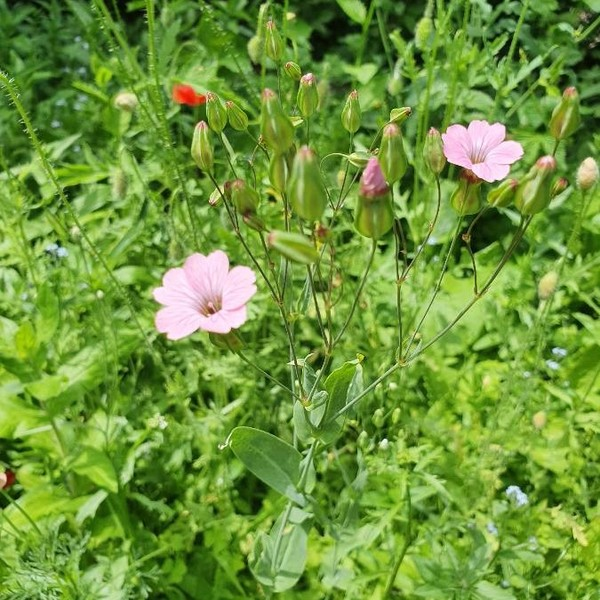obstacle: (85, 69, 513, 539)
